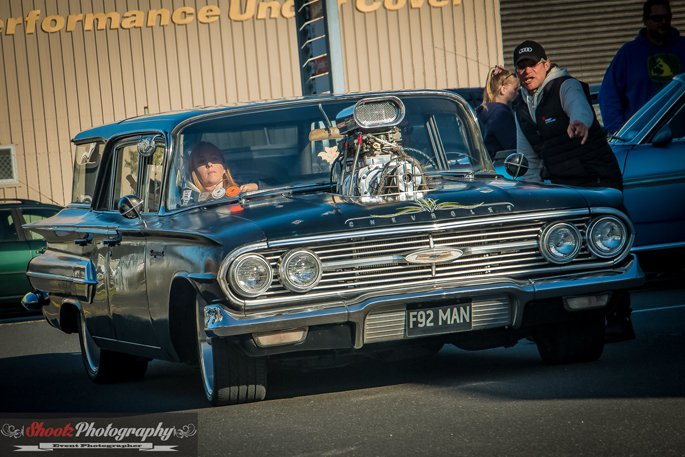car: (29, 82, 640, 396)
